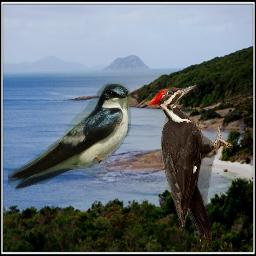Swallow: (8, 83, 131, 191)
Woodpecker: (146, 84, 233, 248)
